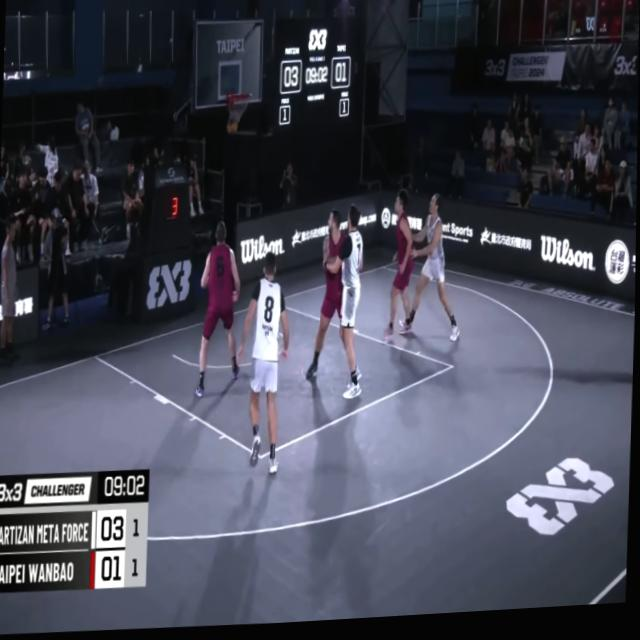ball: (223, 114, 241, 145)
hoop: (225, 91, 251, 138)
player: (239, 253, 293, 479), (403, 197, 468, 352), (324, 206, 371, 411), (197, 220, 245, 402), (306, 211, 352, 389), (384, 193, 420, 349)
